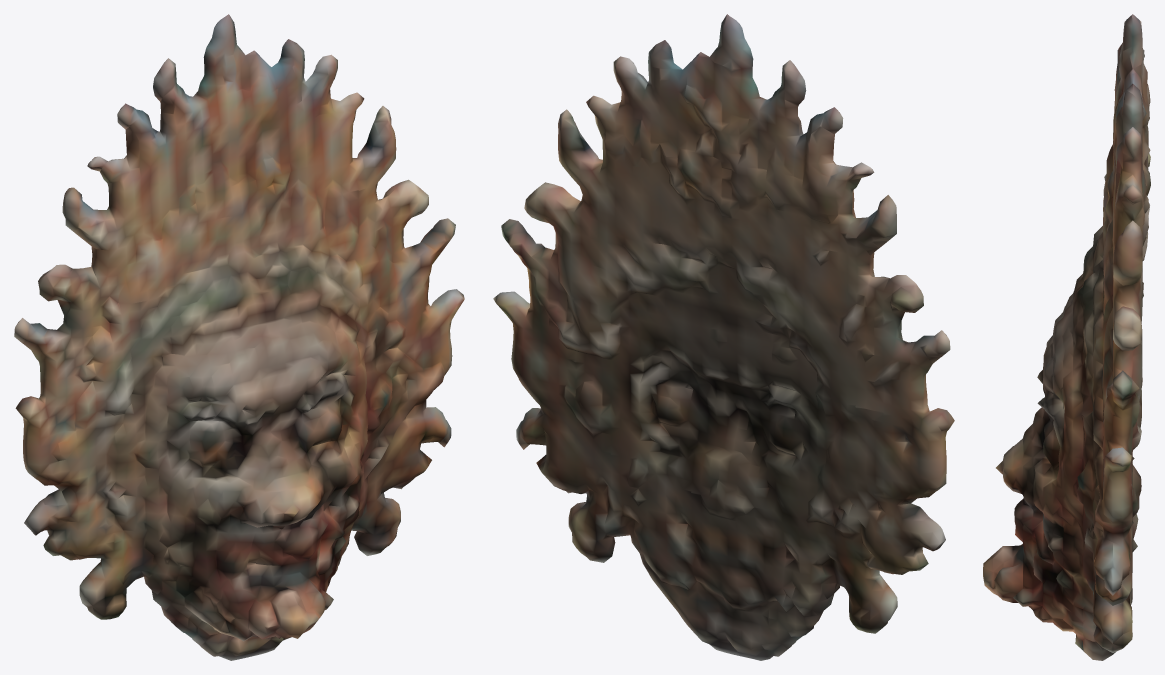
The model's file is sohon-yaka.glb.
3 renders of one model, left to right at view 1: azimuth 30°, elevation 25°; view 2: azimuth 150°, elevation 25°; view 3: azimuth 270°, elevation 25°, orthographic. The views are drawn at different scales.
Parts seen in each view (by area): view 1: geometry_0; view 2: geometry_0; view 3: geometry_0.
Part boxes in pixels (x1,y1,x2,y2): geometry_0: [14, 14, 464, 660]; geometry_0: [493, 14, 954, 660]; geometry_0: [983, 14, 1150, 660].
Size of the model in its own units: 0.7096 by 0.9594 by 0.23.
